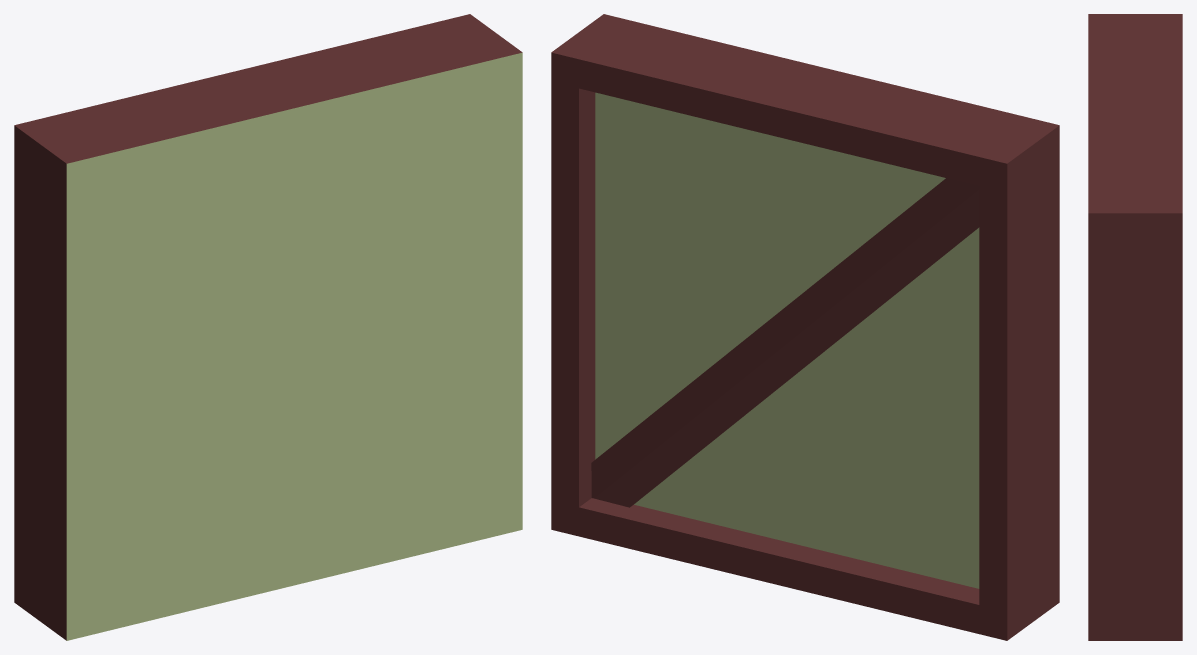
File: Wall_100_02.fbx
3 renders of one model, left to right at view 1: azimuth 30°, elevation 25°; view 2: azimuth 150°, elevation 25°; view 3: azimuth 270°, elevation 25°, orthographic. The views are drawn at different scales.
Parts seen in each view (by area): view 1: Wall_100_02.K; view 2: Wall_100_02.K; view 3: Wall_100_02.K.
Boxes of the visible parts, x1,y1,x2,y2 form: Wall_100_02.K: [14, 14, 522, 640]; Wall_100_02.K: [551, 14, 1059, 640]; Wall_100_02.K: [1088, 14, 1182, 640].
Bounding box in the file's own units: 1 × 1 × 0.2.
